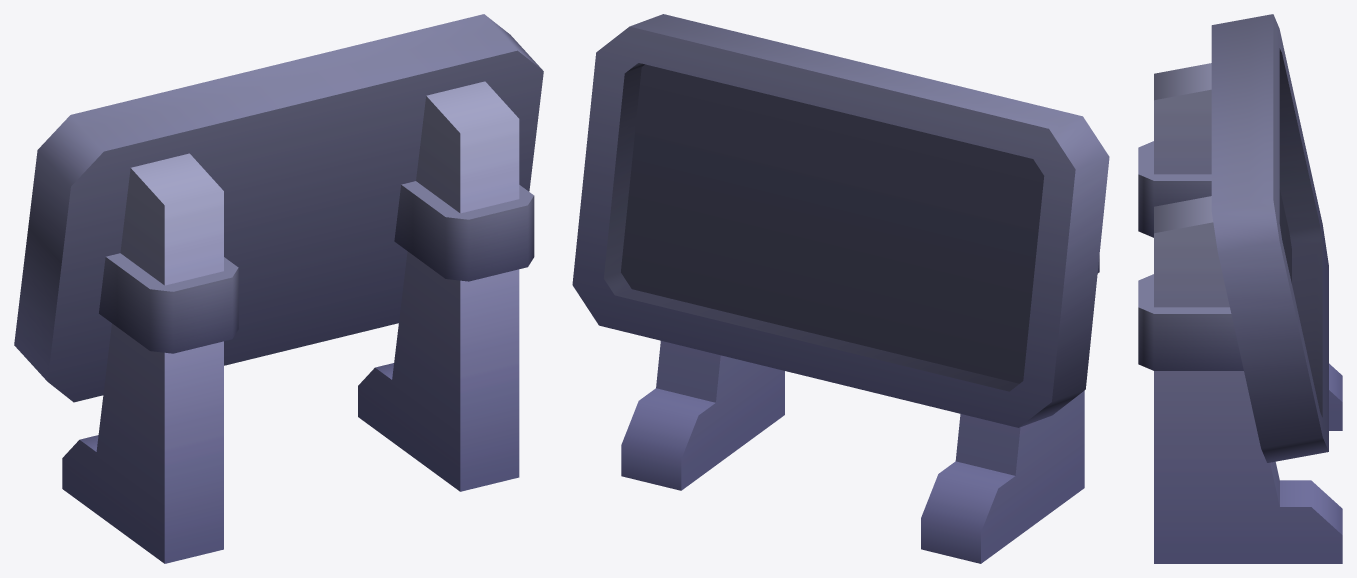
The model's file is screen-wide.glb.
The picture shows the model from 3 angles, left to right: view 1: azimuth 30°, elevation 25°; view 2: azimuth 150°, elevation 25°; view 3: azimuth 270°, elevation 25°; orthographic projection. The views are drawn at different scales.
Parts seen in each view (by area): view 1: screen-wide; view 2: screen-wide; view 3: screen-wide.
Boxes of the visible parts, left/top/right/bottom form: screen-wide: left=14, top=14, right=543, bottom=563; screen-wide: left=572, top=14, right=1109, bottom=563; screen-wide: left=1138, top=14, right=1342, bottom=563.
Size of the model in its own units: 1.2 by 0.9914 by 0.4876.
1 material, 1 textured.
